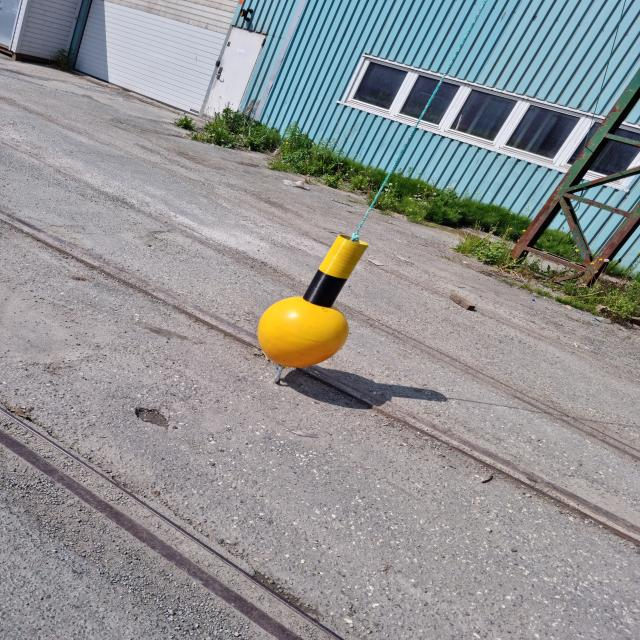west: (256, 237, 369, 367)
